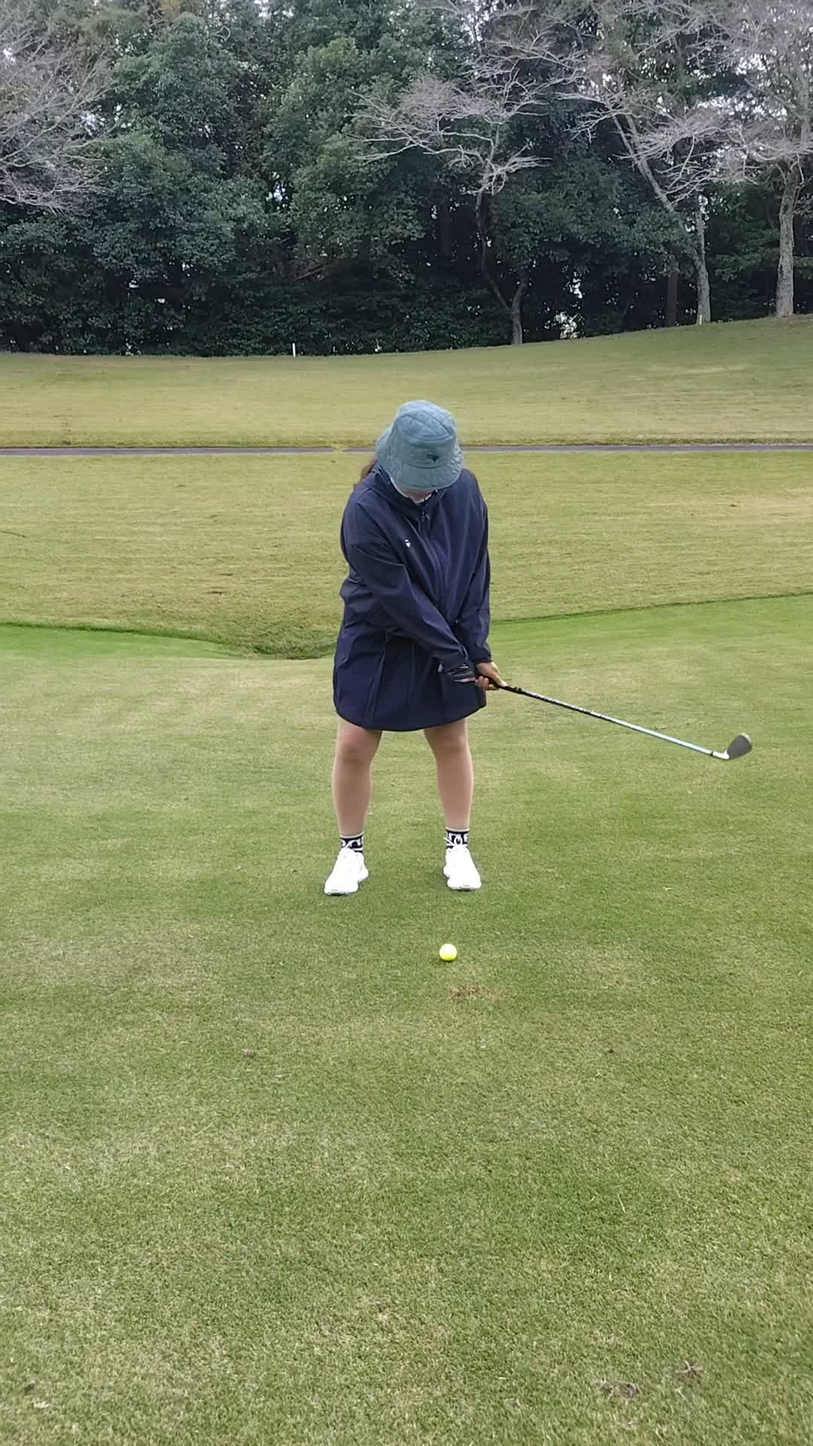clubhead: (672, 708, 780, 839)
